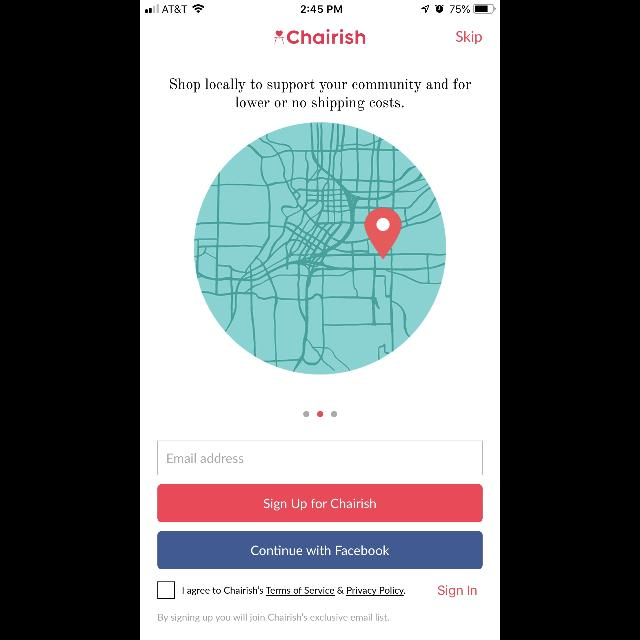checkbox: (157, 582, 173, 598)
image: (194, 123, 446, 375), (274, 30, 284, 44)
input: (158, 440, 482, 476)
pageindicator: (303, 411, 337, 417)
text: (170, 78, 472, 112), (182, 586, 406, 596), (158, 614, 390, 622), (287, 30, 365, 44), (168, 453, 244, 463), (438, 584, 477, 598), (456, 31, 482, 45)
textbutton: (158, 484, 482, 522), (158, 531, 482, 569)
uppertaskbar: (140, 0, 500, 14)
